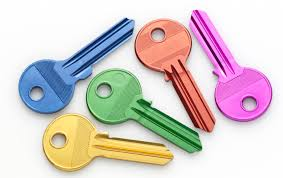kicharina: (190, 5, 273, 122), (37, 113, 173, 172)
